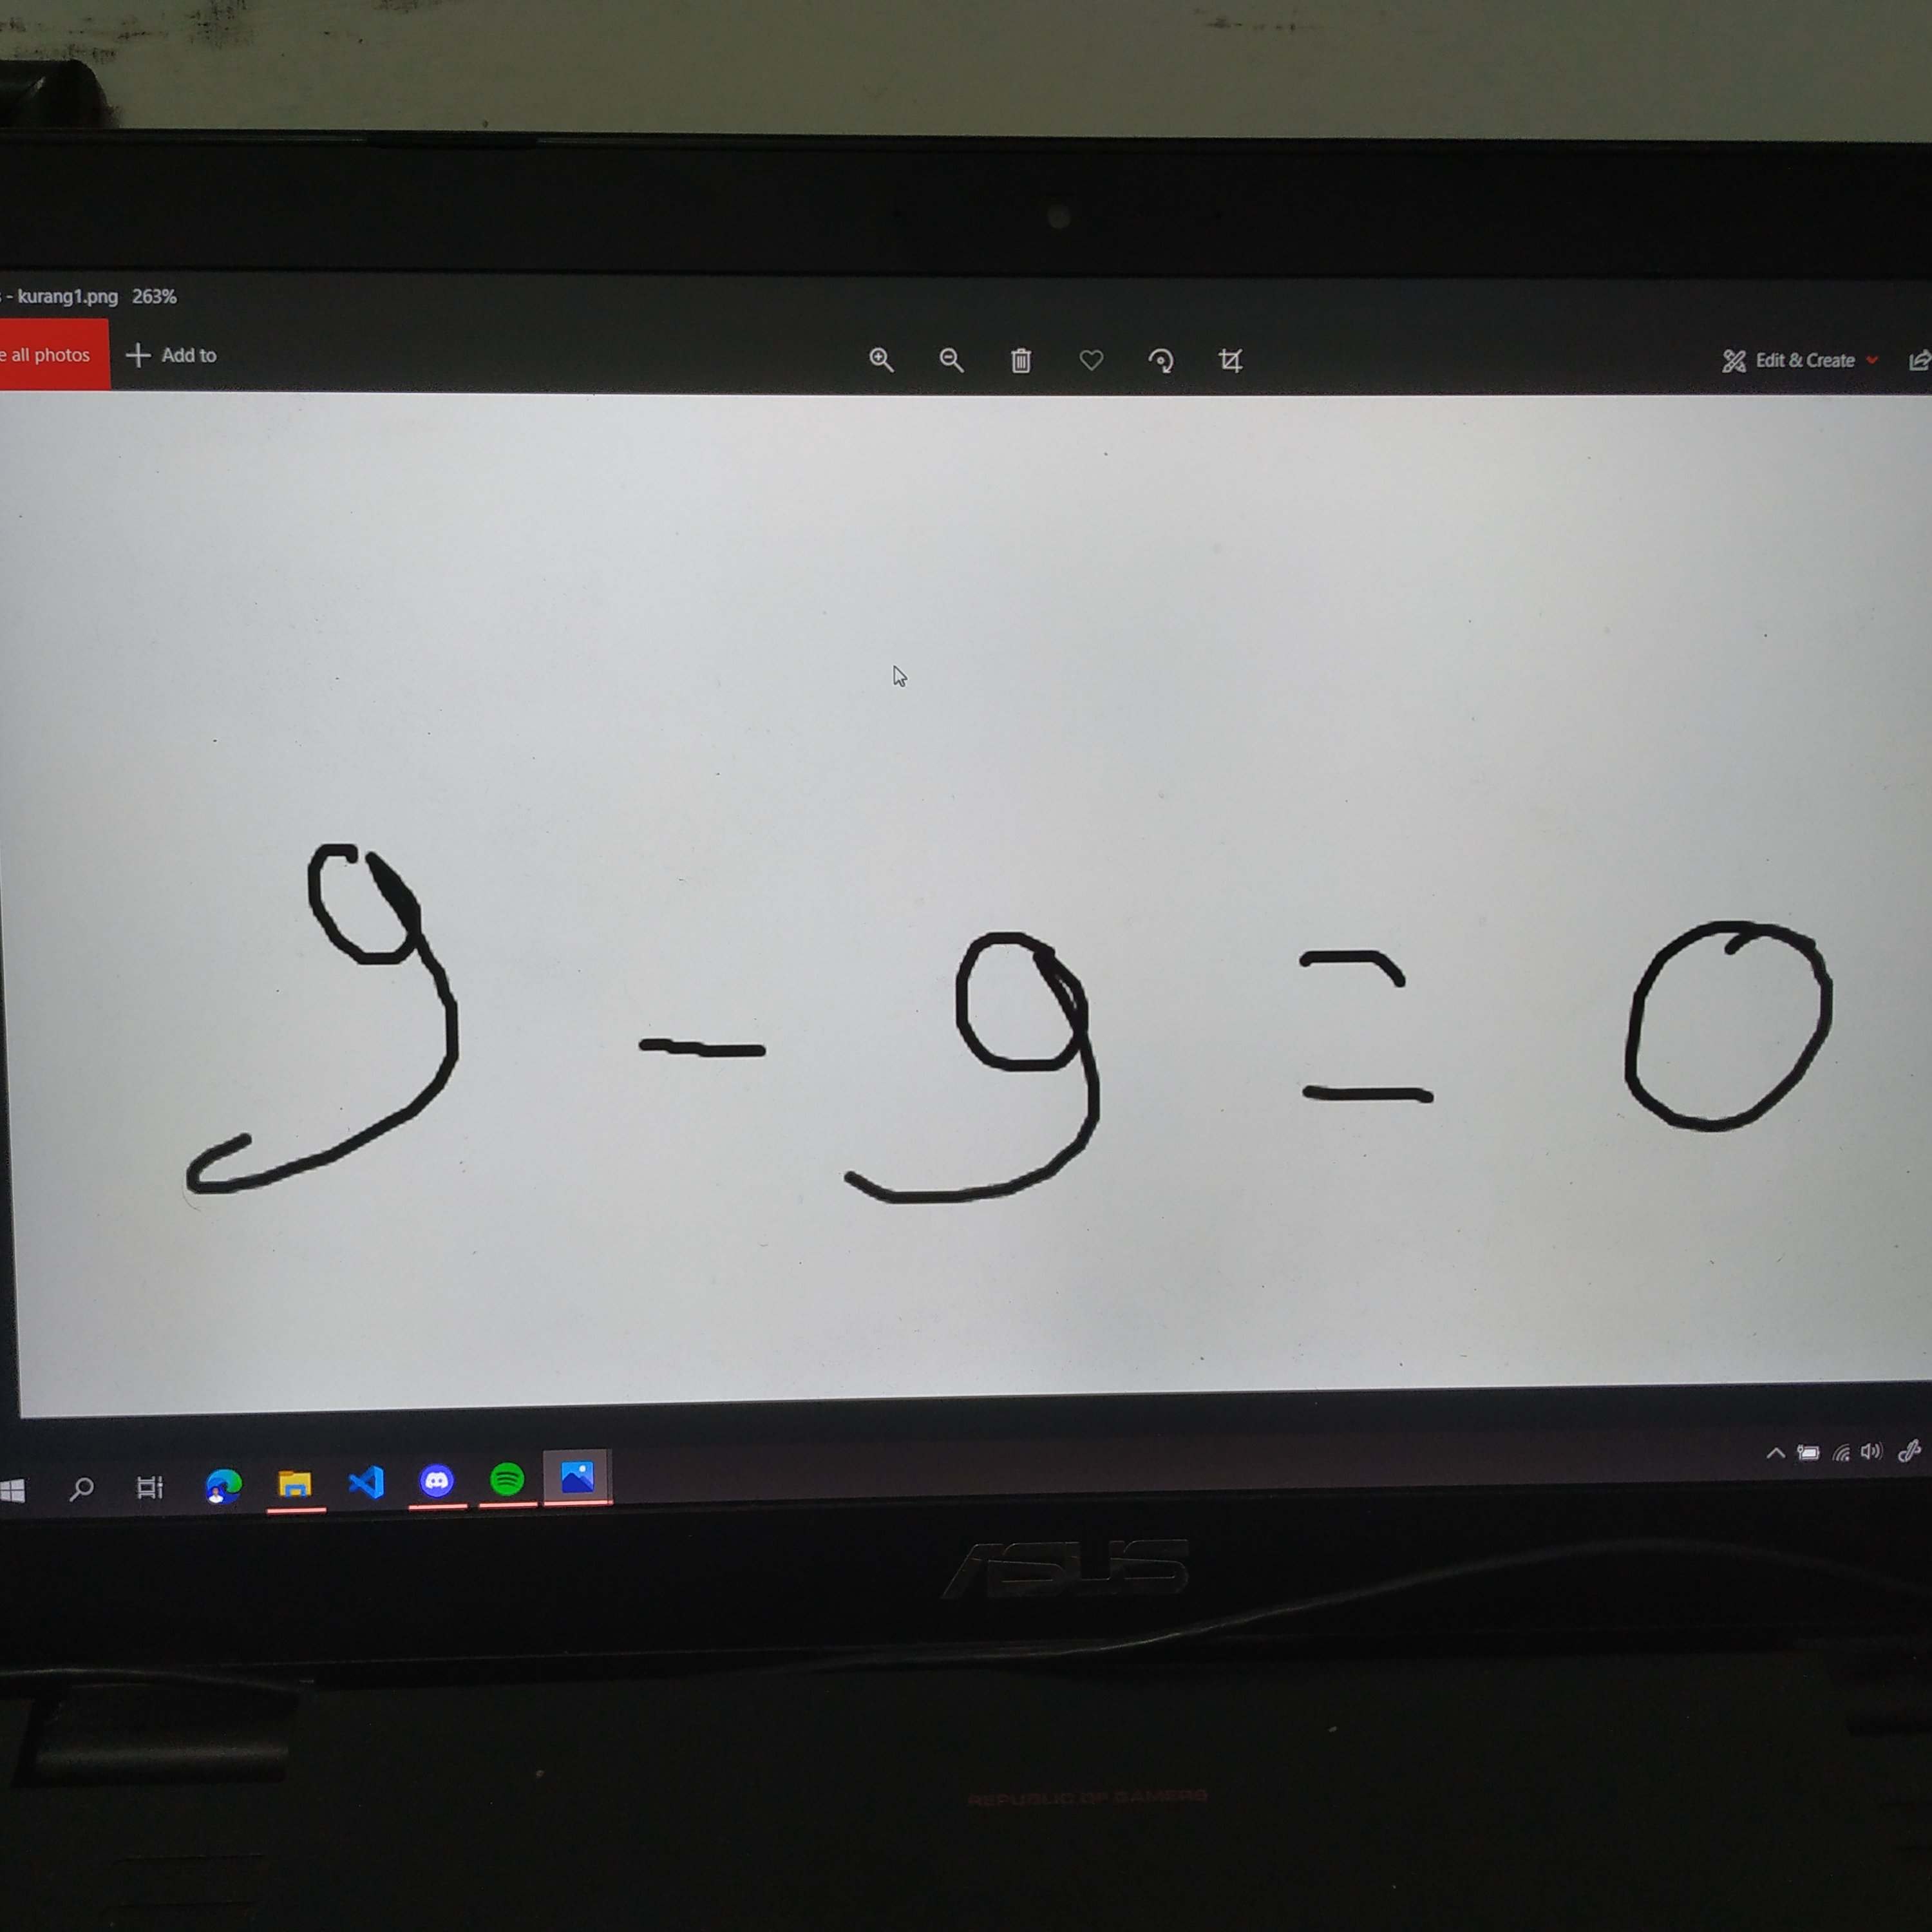equal: (1264, 937, 1488, 1134)
min: (601, 1012, 813, 1103)
num0: (1589, 895, 1864, 1146)
num9: (146, 787, 513, 1211), (817, 895, 1180, 1227)
